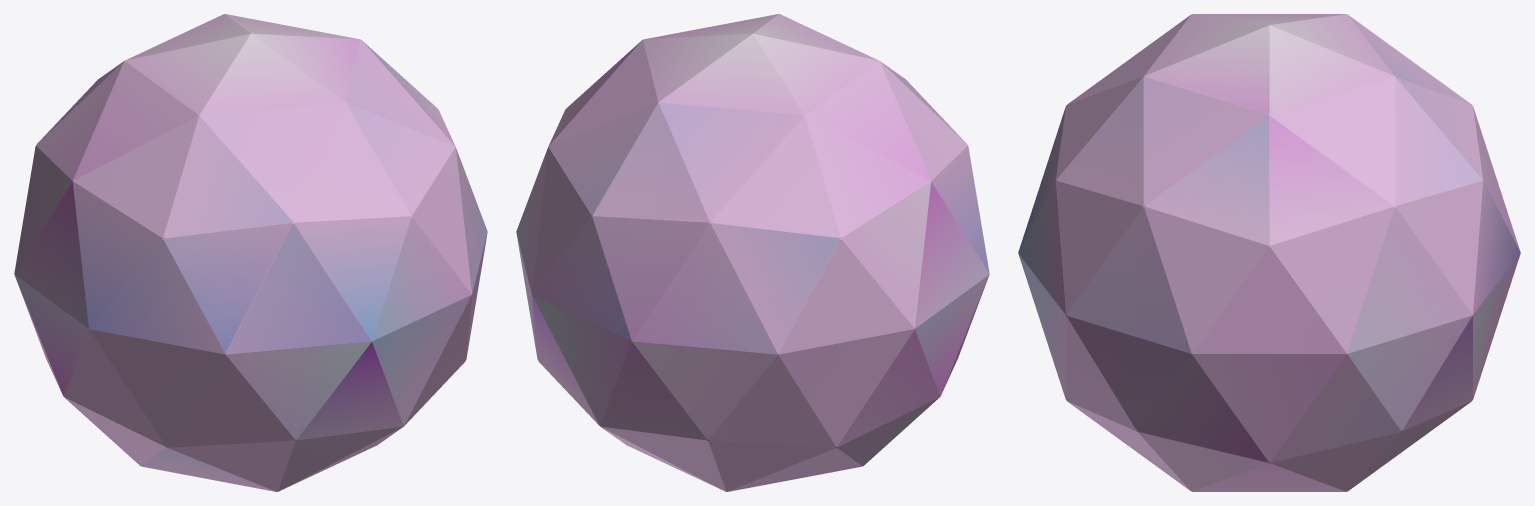
The picture shows the model from 3 angles, left to right: view 1: azimuth 30°, elevation 25°; view 2: azimuth 150°, elevation 25°; view 3: azimuth 270°, elevation 25°; orthographic projection. The views are drawn at different scales.
Parts seen in each view (by area): view 1: faceted_stone; view 2: faceted_stone; view 3: faceted_stone.
Part boxes in pixels (x1,y1,x2,y2): faceted_stone: [14, 14, 487, 491]; faceted_stone: [516, 14, 989, 491]; faceted_stone: [1018, 14, 1520, 491].
Size of the model in its own units: 0.6657 by 0.7 by 0.7.
